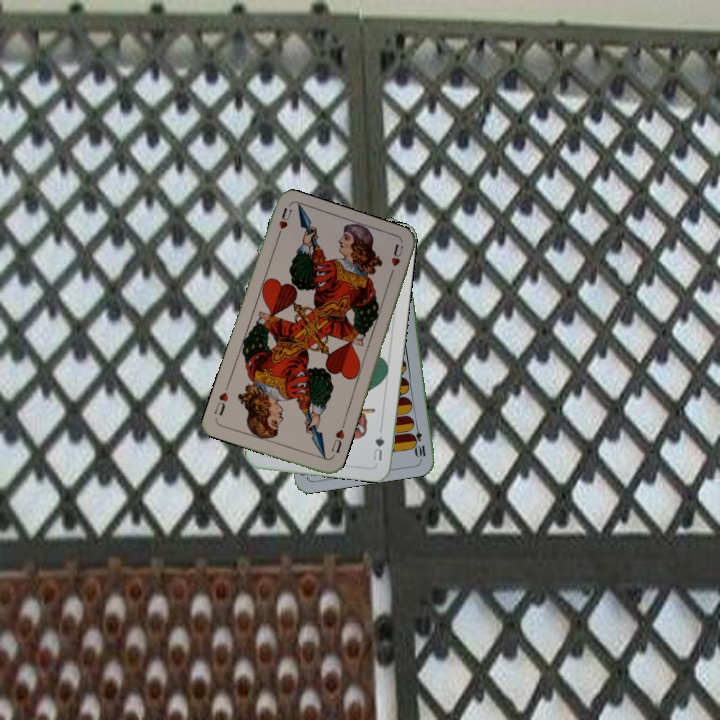E10: (410, 419, 428, 460)
GU: (369, 432, 387, 463)
HU: (272, 203, 294, 243), (327, 421, 347, 456)
